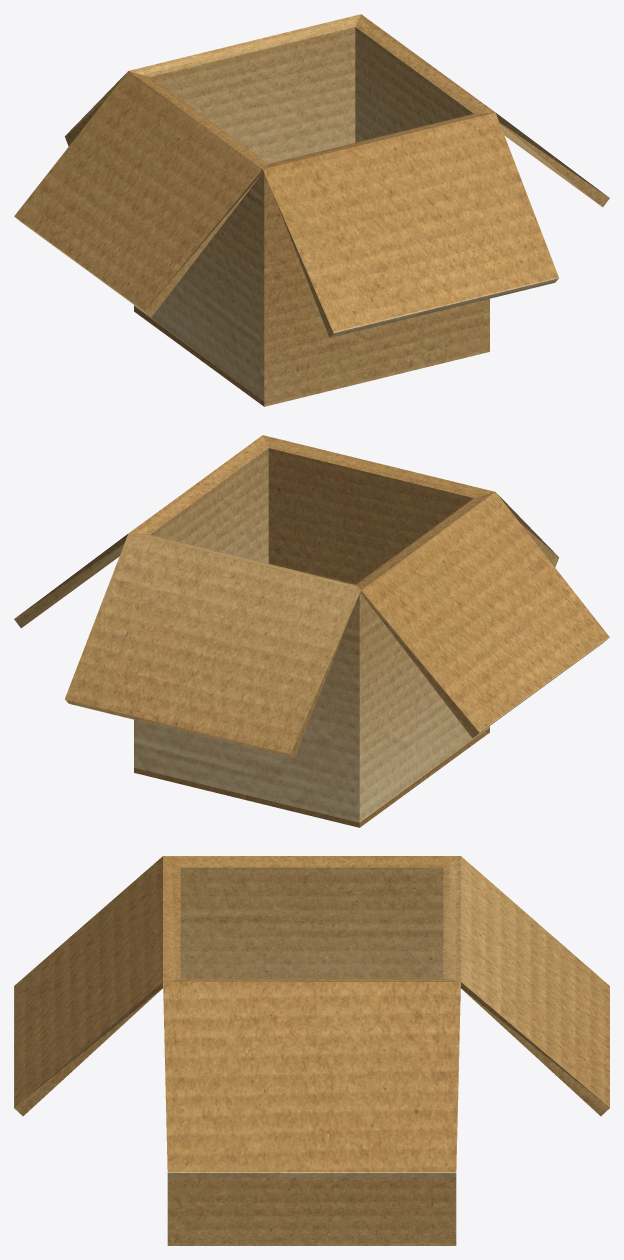
File: CAJA.obj
3 views of the same model, one above another, from view 1: azimuth 30°, elevation 25°; view 2: azimuth 150°, elevation 25°; view 3: azimuth 270°, elevation 25° (orthographic). The views are drawn at different scales.
Parts seen in each view (by area): view 1: Caja_Cube.021; view 2: Caja_Cube.021; view 3: Caja_Cube.021.
Boxes of the visible parts, x1=… form: Caja_Cube.021: x1=14, y1=14, x2=609, y2=406; Caja_Cube.021: x1=14, y1=435, x2=609, y2=827; Caja_Cube.021: x1=14, y1=856, x2=609, y2=1245.
Size of the model in its own units: 5.47 by 2.7 by 5.47.
Materials: 1 (1 with a texture image).
